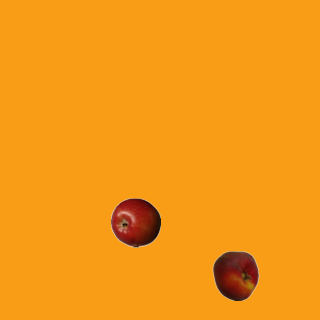Apple Braeburn: (110, 197, 160, 247)
Nectarine Flat: (210, 250, 260, 300)
